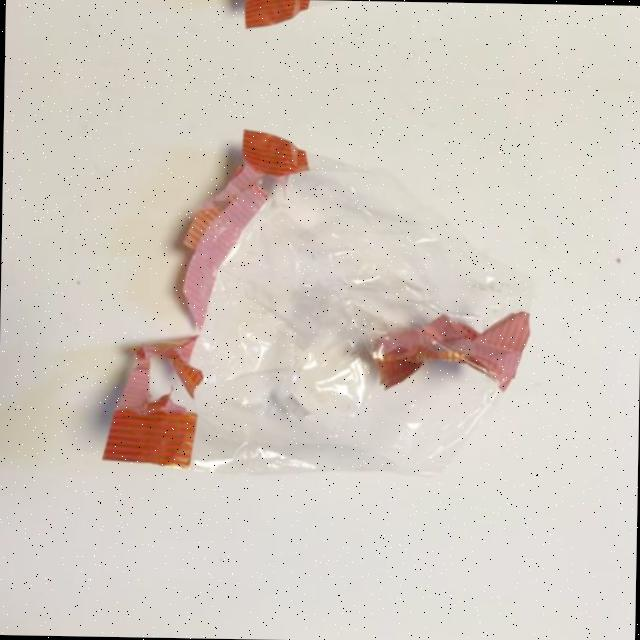paper: (78, 110, 578, 502), (86, 0, 579, 47), (76, 618, 568, 640)
